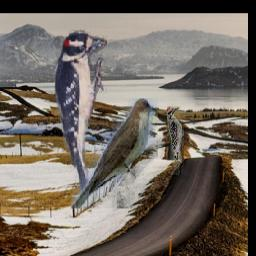Cuckoo: (70, 99, 157, 209)
Woodpecker: (53, 27, 107, 195), (166, 106, 183, 175)
